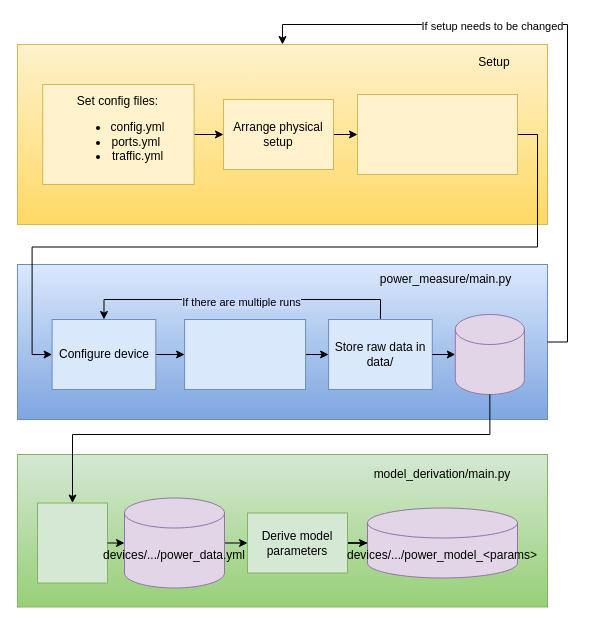
This 593x625 diagram has some shape labels left out. The shapes that lost their labels are listed below. From the top down, each one's box as (x1, y1, x2, y2) in pixels, then its label:
(356, 94, 518, 174): Set the experiment(s) you want to run (CLI or exp.yml)
(184, 318, 306, 390): Run measurements
(454, 314, 524, 394): data/
(36, 502, 108, 583): Preprocess data
